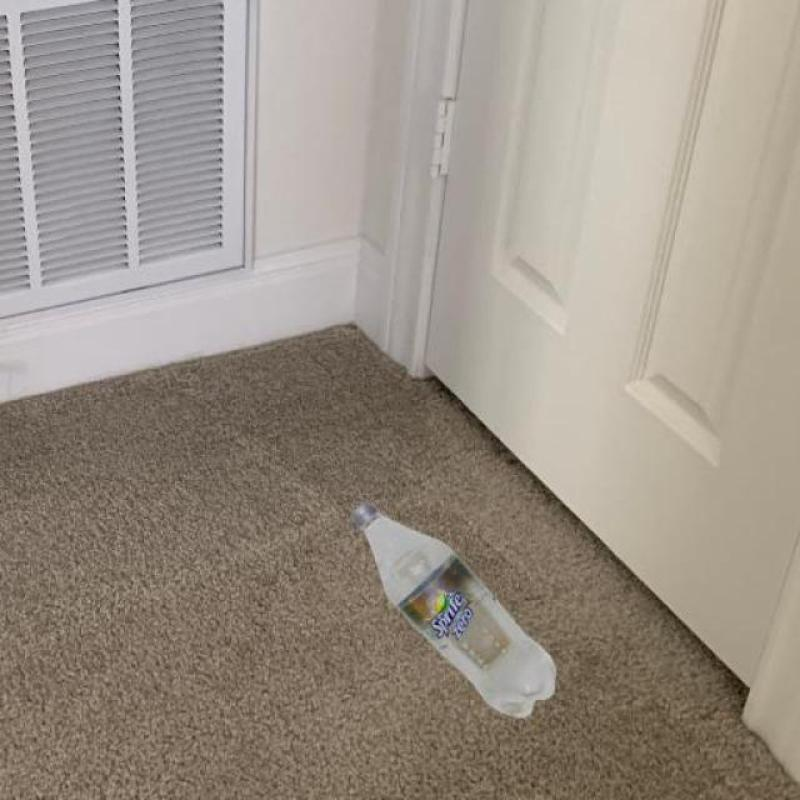botella: (352, 500, 558, 719)
